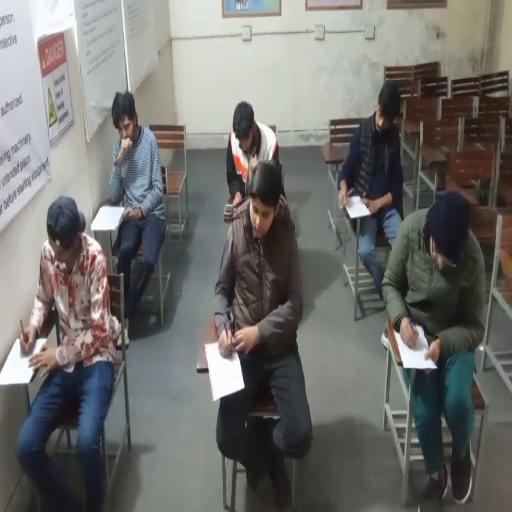paper: (204, 339, 245, 401), (0, 337, 47, 385), (397, 326, 437, 370), (91, 205, 126, 232), (344, 194, 372, 218)
